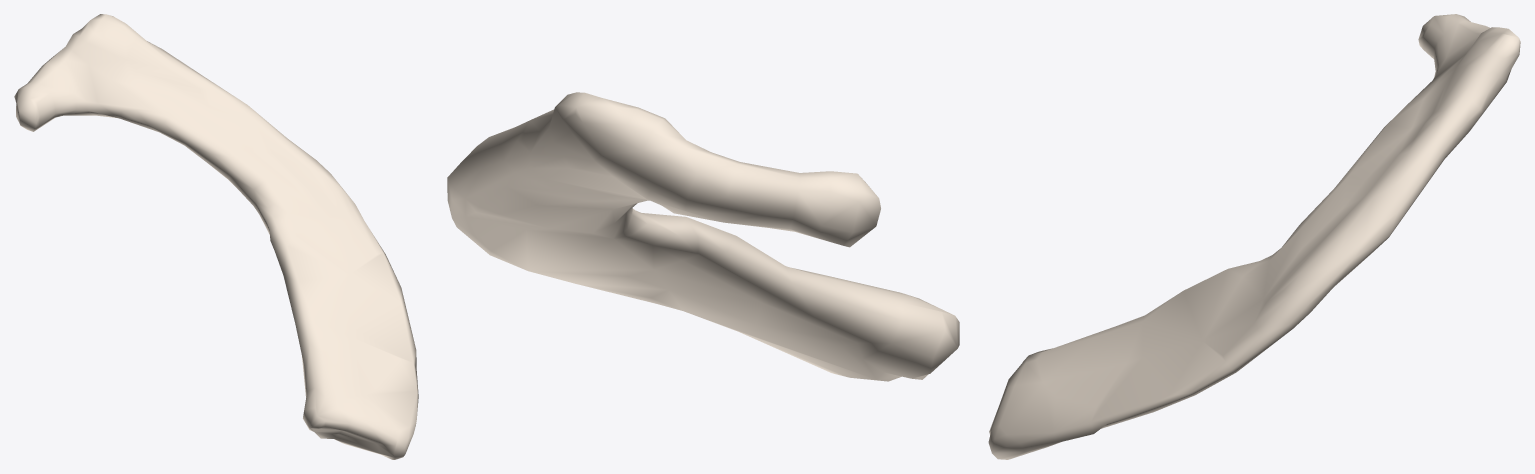
Rendered from left_rib_1.glb.
3 views of the same model, side by side, from view 1: azimuth 30°, elevation 25°; view 2: azimuth 150°, elevation 25°; view 3: azimuth 270°, elevation 25° (orthographic). The views are drawn at different scales.
Visible parts, largest first — view 1: Rib (1st).r; view 2: Rib (1st).r; view 3: Rib (1st).r.
Part boxes in pixels (x1,y1,x2,y2): Rib (1st).r: (14, 14, 418, 459); Rib (1st).r: (447, 92, 959, 381); Rib (1st).r: (988, 14, 1520, 459).
Size of the model in its own units: 0.0324 by 0.0341 by 0.0437.
